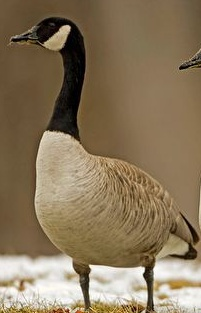goose: (6, 16, 198, 309)
